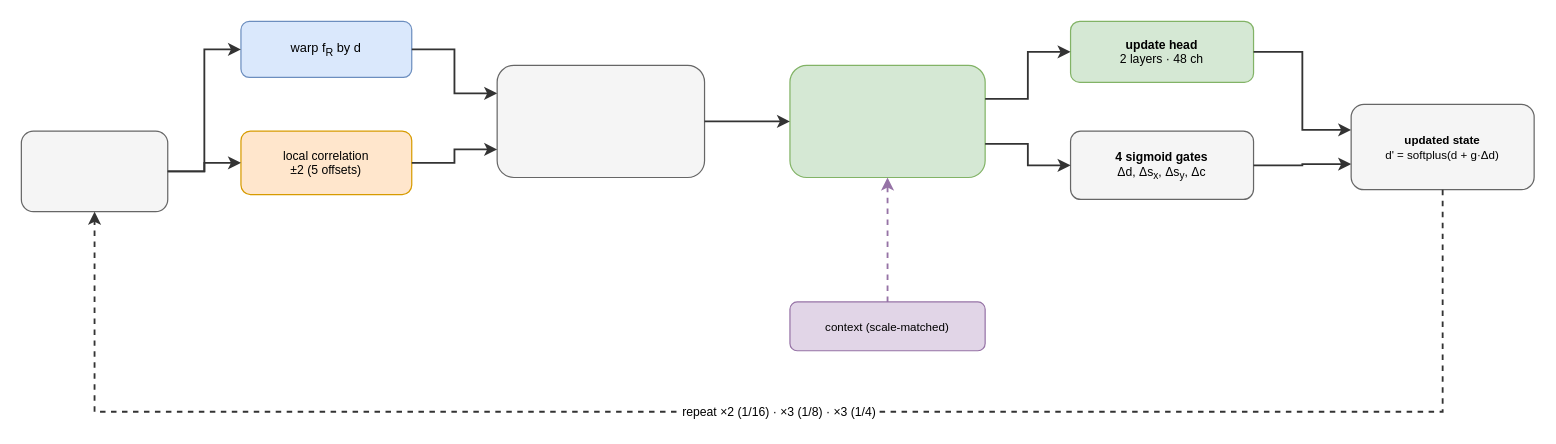
This 1556x444 diagram has some shape labels left out. Here are the shapes that lost their labels. From the top down, the box of each, then its label:
(496, 64, 705, 178): assemble x [f L , warp(f R ), d, s x , s y , c, corr, ctx]
(789, 64, 985, 178): ConvGRU z, r = σ(Conv[h,x]) q = tanh(Conv[r·h, x]) h' = (1−z)h + zq
(20, 130, 168, 212): state (d, s x , s y , h, c)
